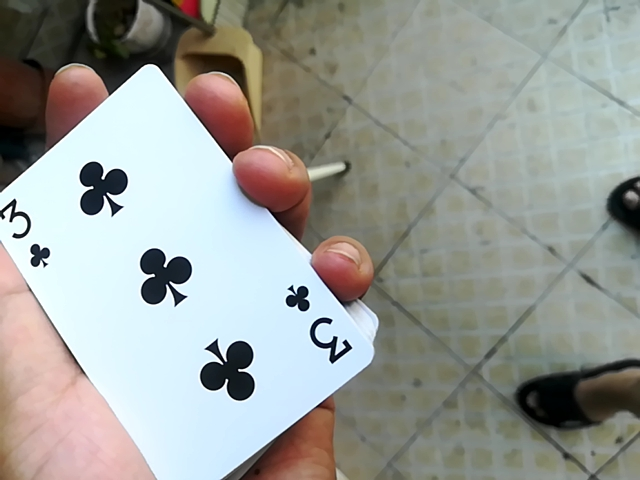mh 3: (0, 62, 378, 480)
